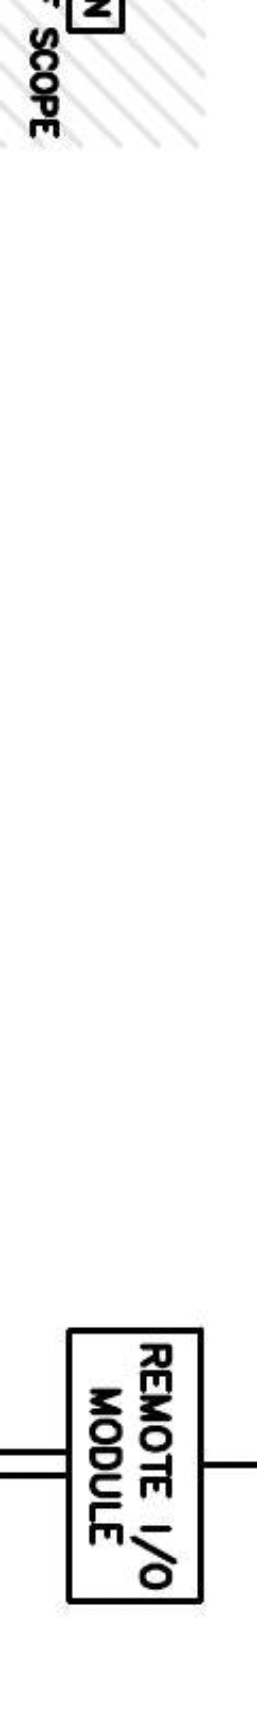remote_io_module: (65, 1326, 205, 1605)
